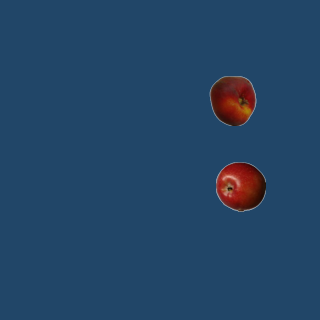Apple Braeburn: (215, 161, 265, 211)
Nectarine Flat: (207, 75, 257, 125)
